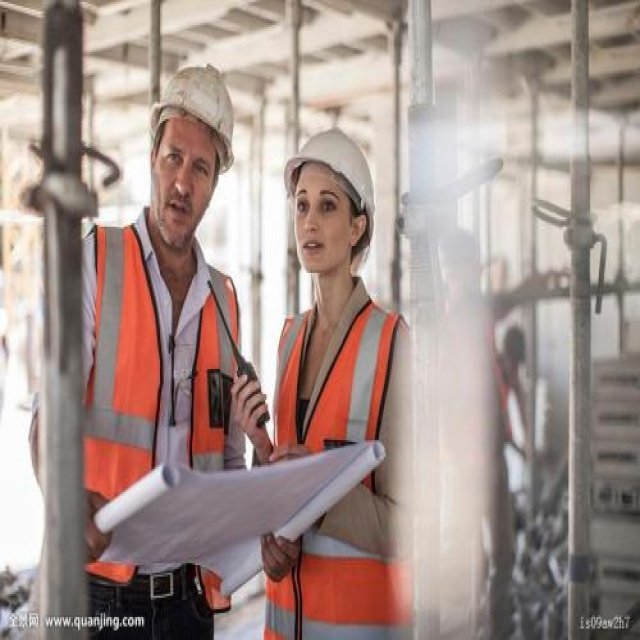Helmet: (140, 56, 245, 264), (278, 121, 384, 300)
Reflective vest: (79, 216, 246, 613), (266, 299, 421, 640)
